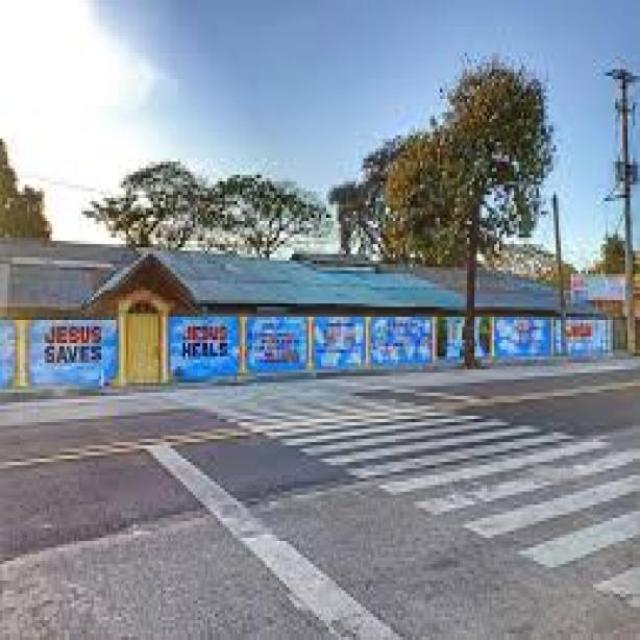pedestrian lane: (200, 390, 640, 608)
